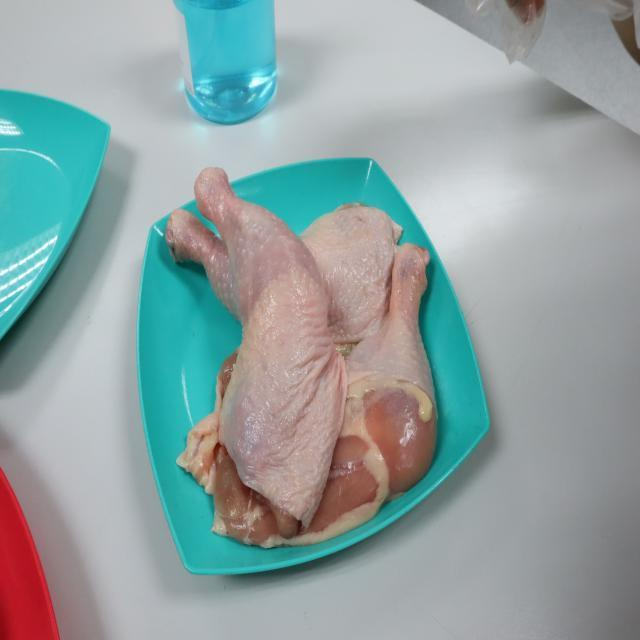quater: (202, 172, 340, 502), (329, 252, 444, 528), (150, 197, 399, 312)
